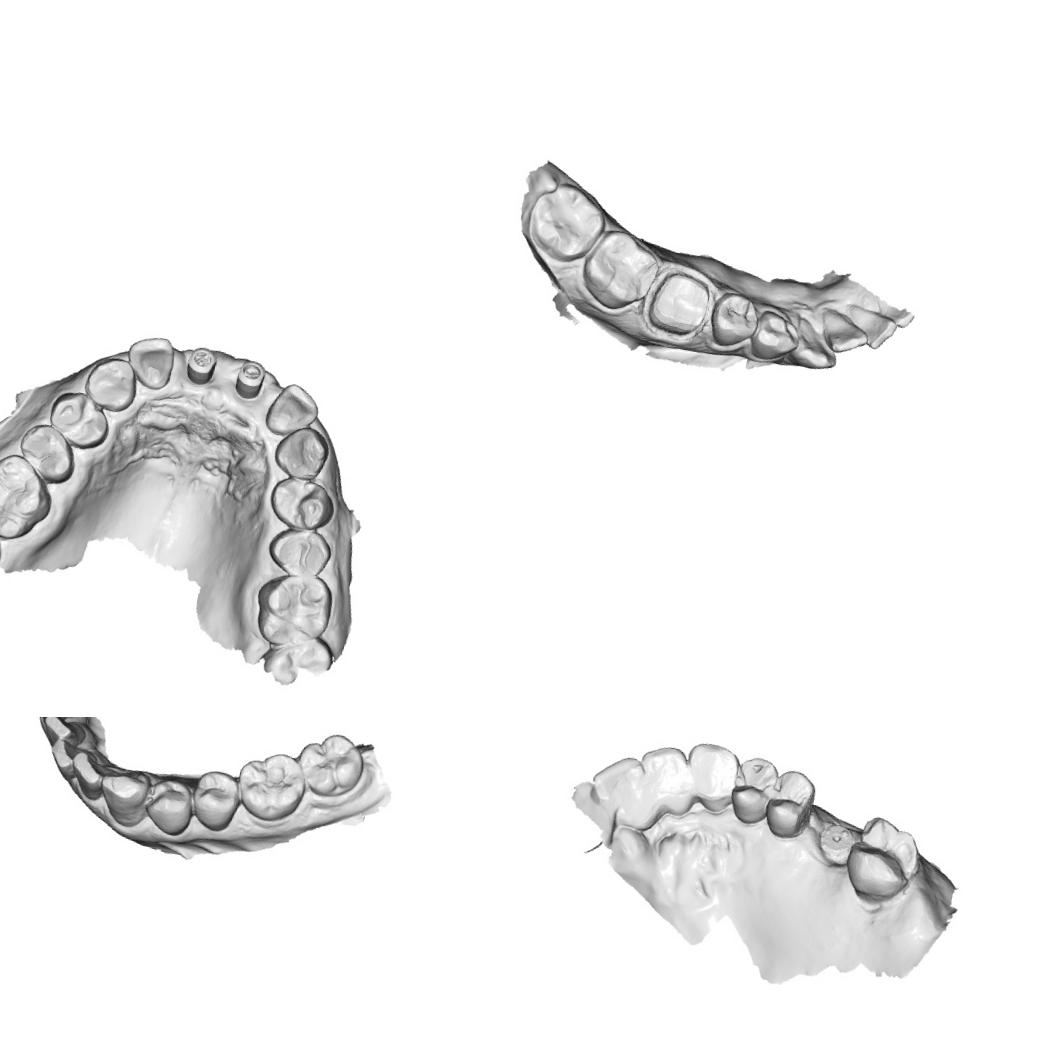canine: (676, 738, 743, 816), (776, 310, 844, 374), (78, 350, 144, 415), (91, 763, 154, 831), (268, 421, 334, 485)
crown: (641, 265, 716, 340)
implant: (814, 819, 858, 863), (230, 356, 268, 402), (182, 344, 220, 388)
incisor: (631, 739, 692, 814), (260, 378, 324, 443), (587, 748, 648, 814), (120, 330, 180, 393), (839, 301, 899, 352), (814, 305, 872, 356), (64, 748, 111, 803), (45, 734, 80, 780), (38, 717, 88, 748), (32, 717, 82, 727)
molar: (838, 810, 927, 910), (520, 175, 612, 268), (574, 223, 664, 315), (247, 565, 337, 655), (229, 745, 312, 827), (291, 725, 369, 804), (0, 446, 60, 547)
premolar: (262, 470, 338, 536), (12, 418, 82, 488), (42, 386, 114, 454), (760, 764, 820, 844), (724, 752, 782, 830), (262, 521, 336, 582), (186, 766, 246, 834), (137, 774, 197, 838), (704, 288, 763, 353), (746, 306, 804, 366)
